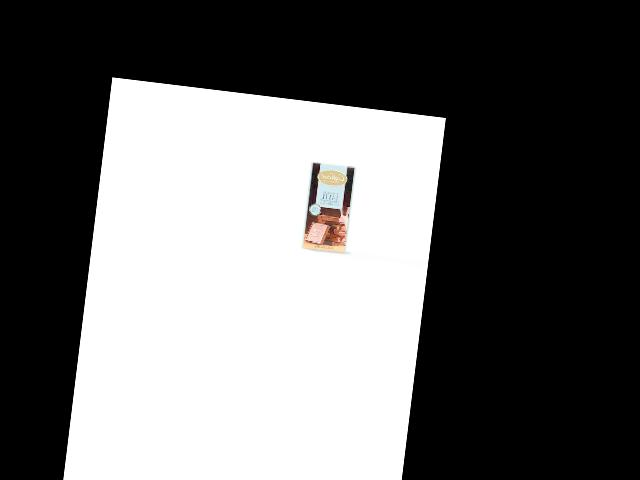chocolate: (300, 160, 358, 254)
